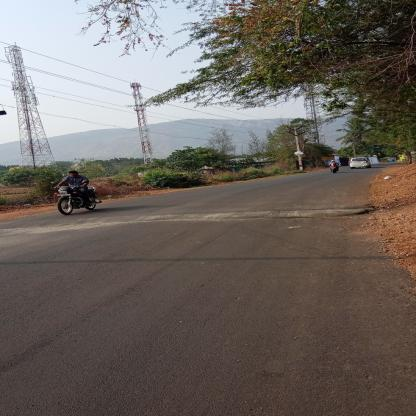speed-bumps: (0, 198, 386, 240)
